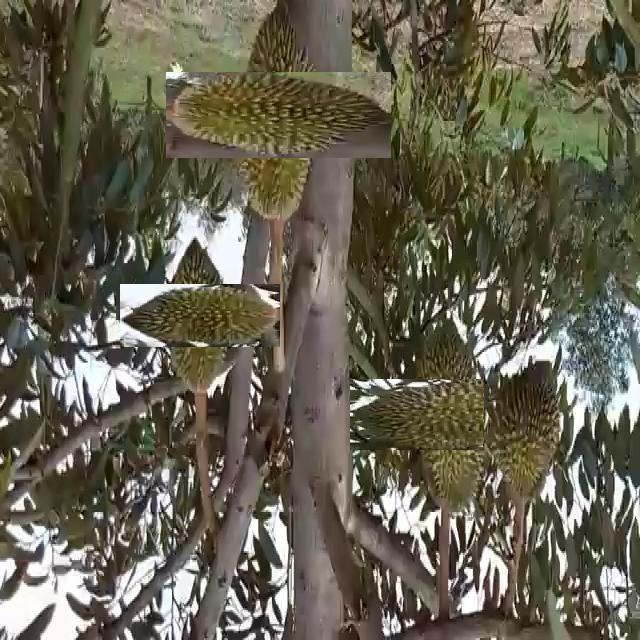durian: (201, 37, 357, 193), (381, 347, 517, 482), (144, 260, 256, 372), (484, 355, 562, 502)
